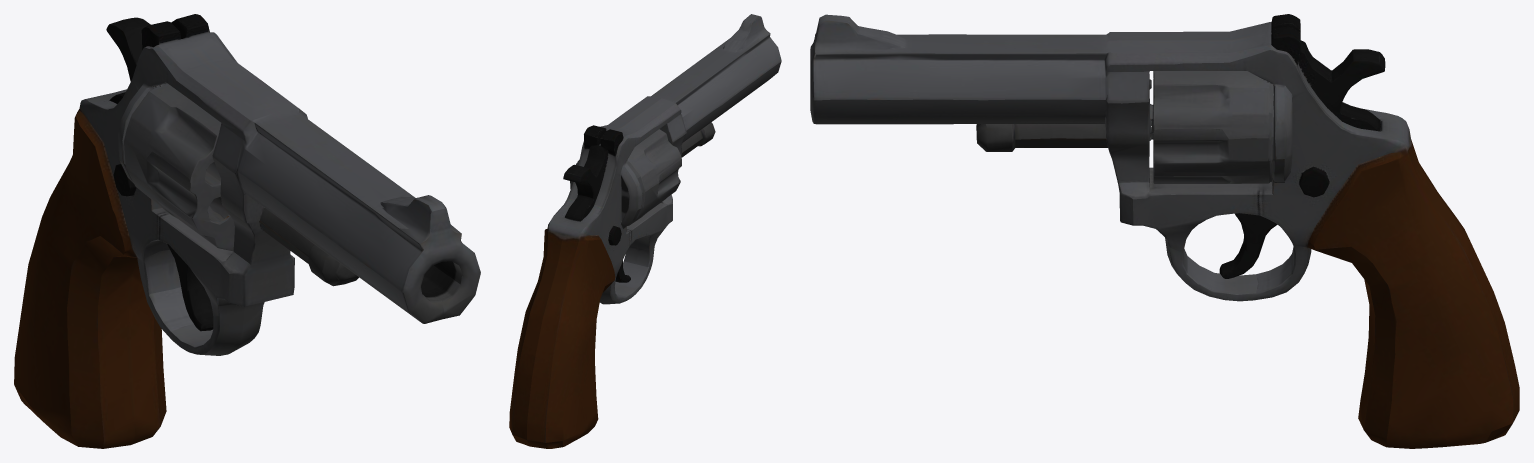
Rendered from six_shot_revolver_low.glb.
3 renders of one model, left to right at view 1: azimuth 30°, elevation 25°; view 2: azimuth 150°, elevation 25°; view 3: azimuth 270°, elevation 25°, orthographic. The views are drawn at different scales.
Visible parts, largest first — view 1: world; view 2: world; view 3: world.
Boxes of the visible parts, left/top/right/bottom form: world: left=14, top=14, right=480, bottom=448; world: left=509, top=14, right=781, bottom=448; world: left=810, top=14, right=1519, bottom=448.
Size of the model in its own units: 0.1806 by 0.6442 by 1.
1 material, 1 textured.
